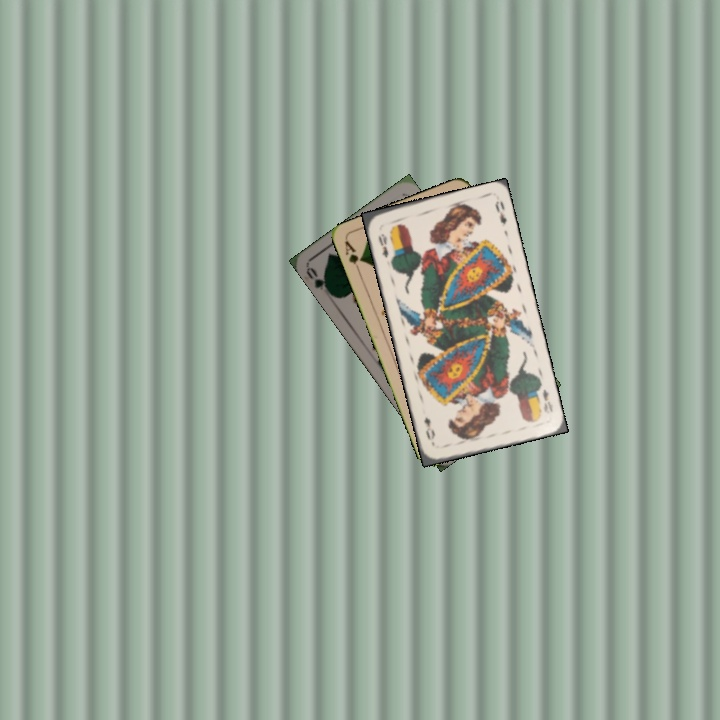EO: (538, 385, 555, 416), (374, 230, 391, 260)
GA: (341, 237, 366, 276)
GO: (302, 263, 334, 298)
